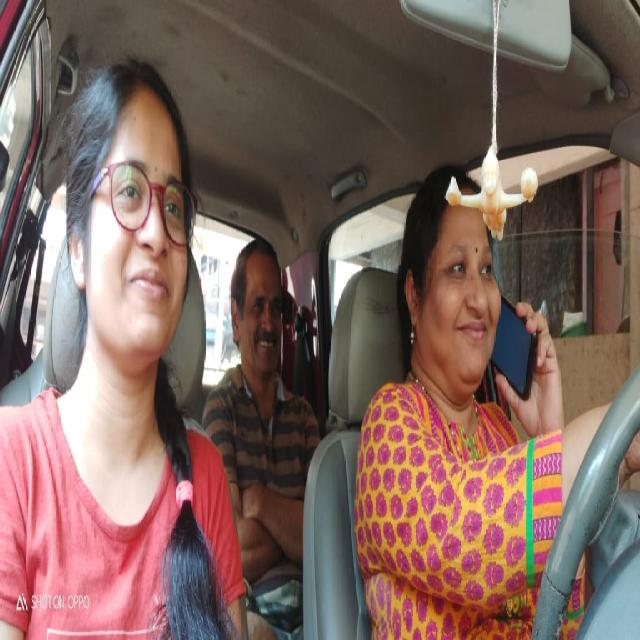mobile: (489, 280, 539, 406)
person: (68, 51, 198, 392), (398, 146, 501, 414), (225, 234, 293, 396)
